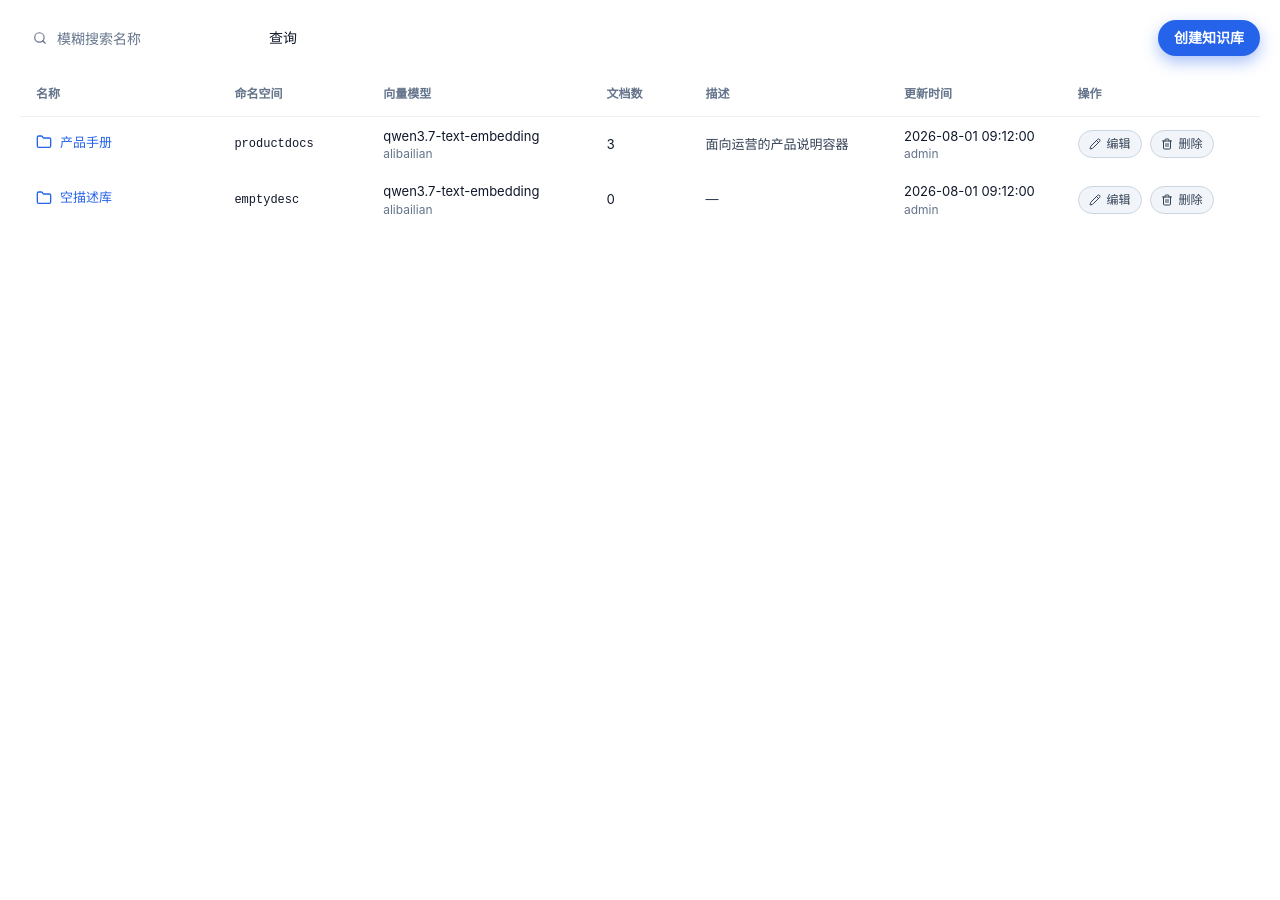
Scenario: KnowledgeBasesPage › opens delete confirm when Admin deletes an empty knowledge base
Expected: the text "空描述库" is shown, x1=60 y1=188 x2=112 y2=208
Click the button "删除" in the row of "空描述库" at (1182, 200), box x1=1150 y1=186 x2=1214 y2=214
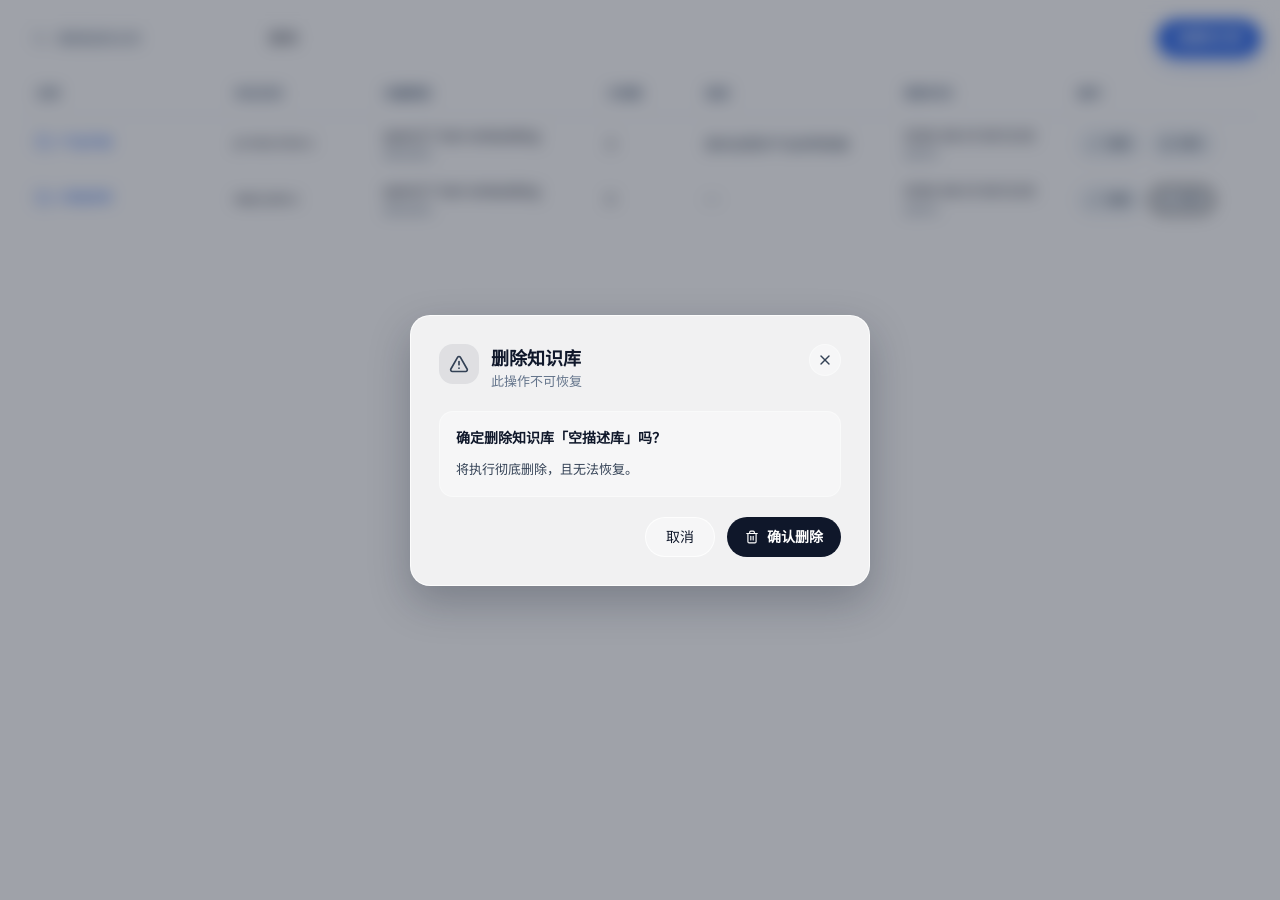
Expected: the dialog "删除知识库" is shown, x1=410 y1=314 x2=870 y2=586
